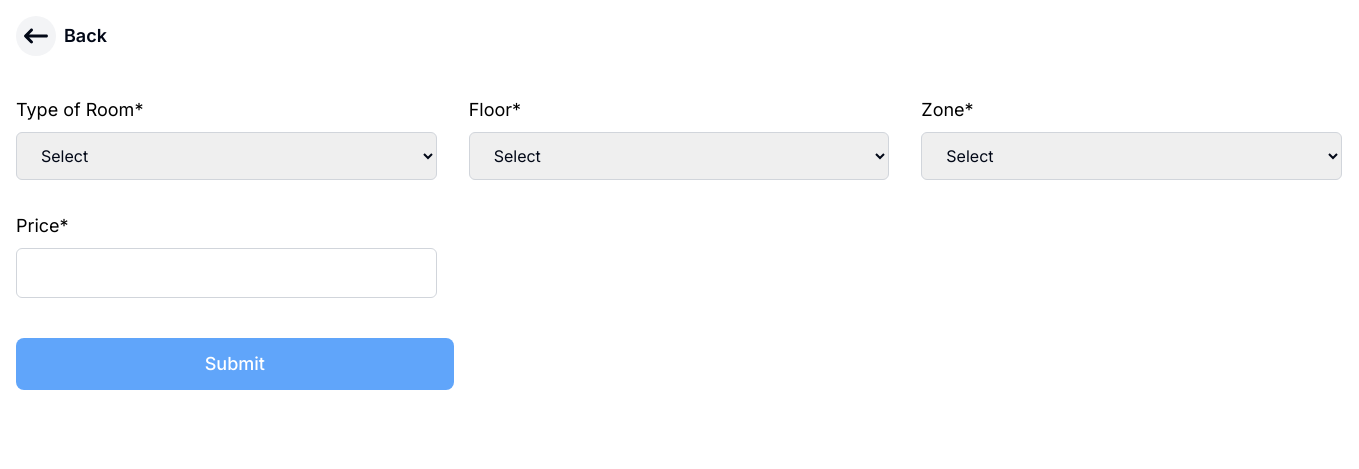
Test: AddHotel Component › shows error message when submission fails
Select "Single" in the dropdown labelled "Type of Room*" at x=226, y=156, box [16, 132, 437, 180]
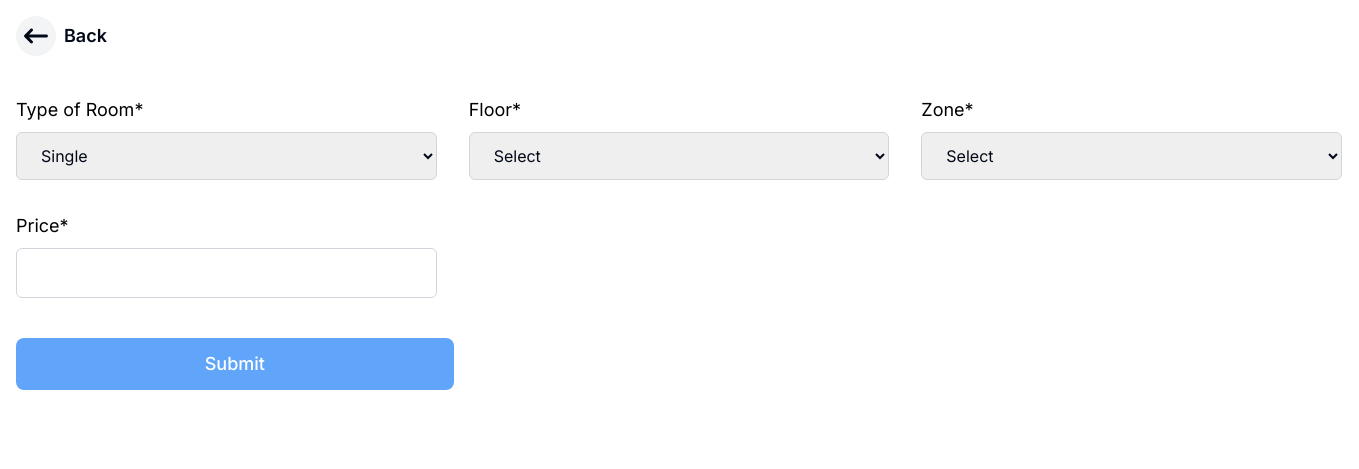
Select "1" in the dropdown labelled "Floor*" at x=679, y=156, box [469, 132, 889, 180]
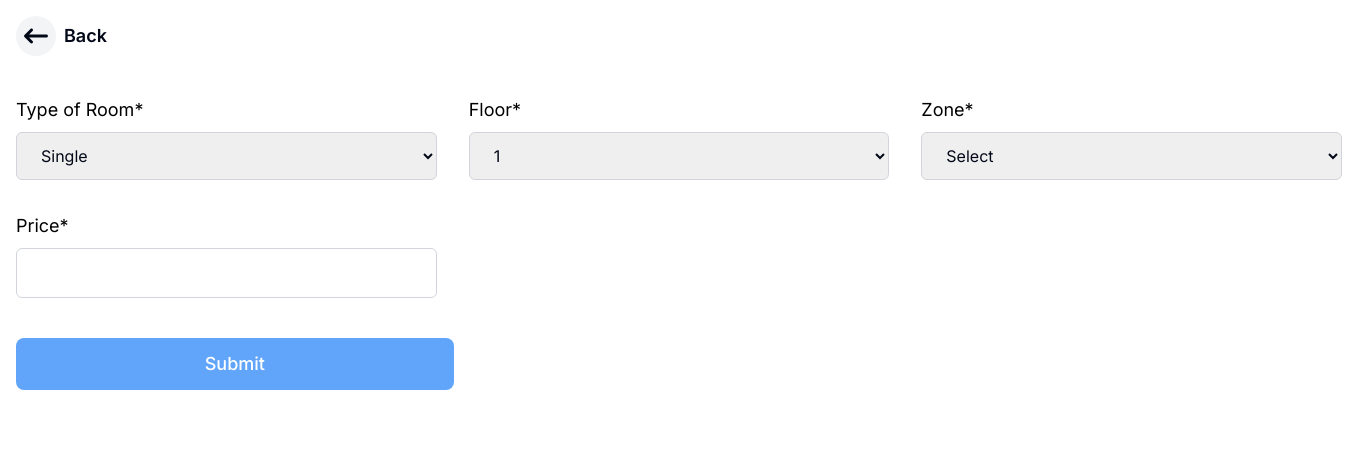
Select "North" in the dropdown labelled "Zone*" at x=1132, y=156, box [921, 132, 1342, 180]
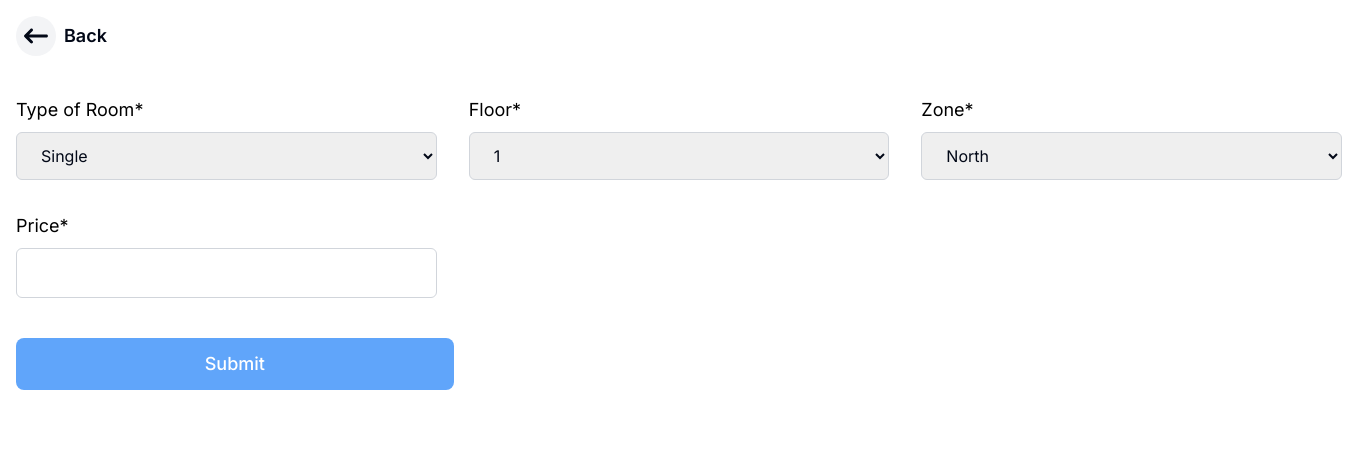
Type "100" into the field labelled "Price*" at x=226, y=273, box [16, 248, 437, 298]
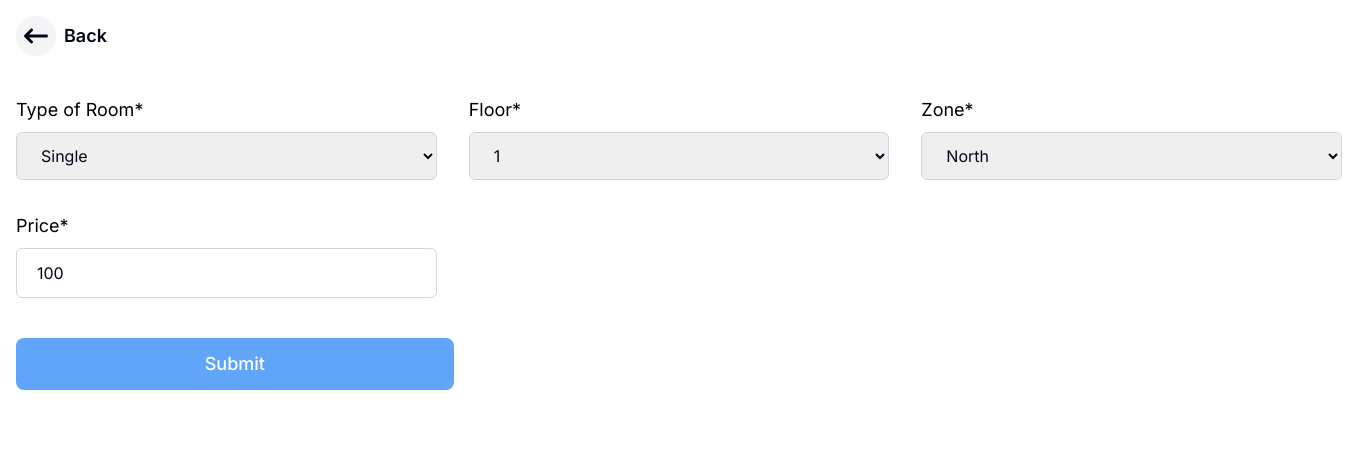
Click the button "Submit" at x=235, y=364, box [16, 338, 454, 390]
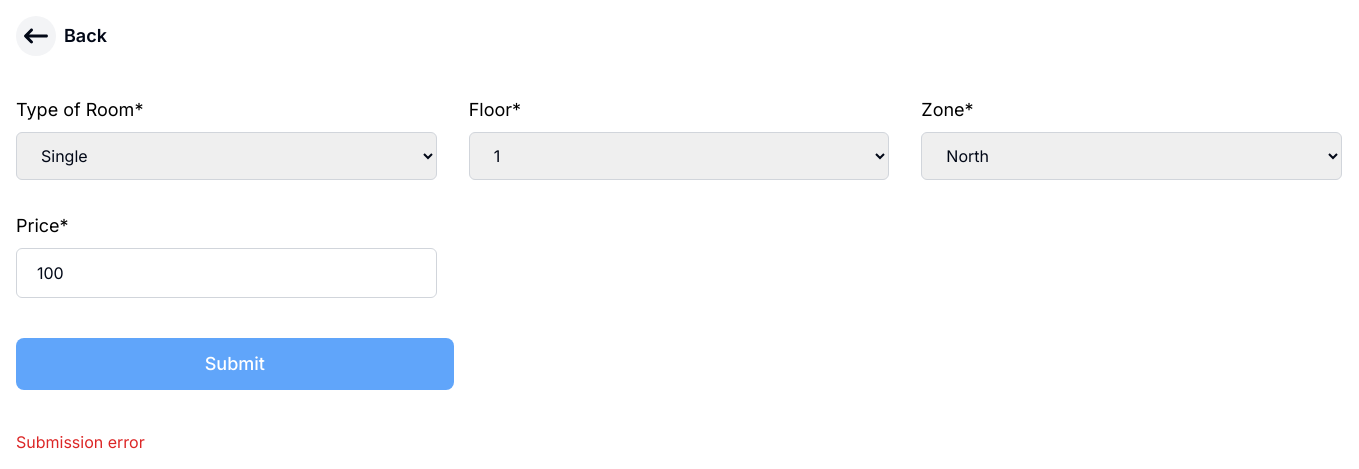
Result: the text "Submission error" is shown at [16, 432, 145, 452]
